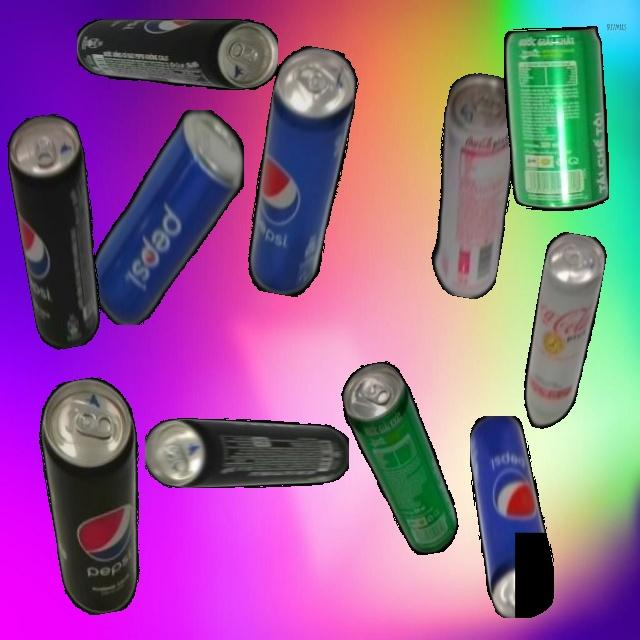debris: (29, 372, 166, 619), (92, 109, 244, 325), (239, 42, 363, 301), (1, 110, 117, 352), (414, 69, 530, 302), (337, 354, 462, 564), (503, 26, 609, 212), (516, 230, 609, 434), (469, 415, 554, 618), (145, 417, 349, 488), (76, 19, 278, 90)
